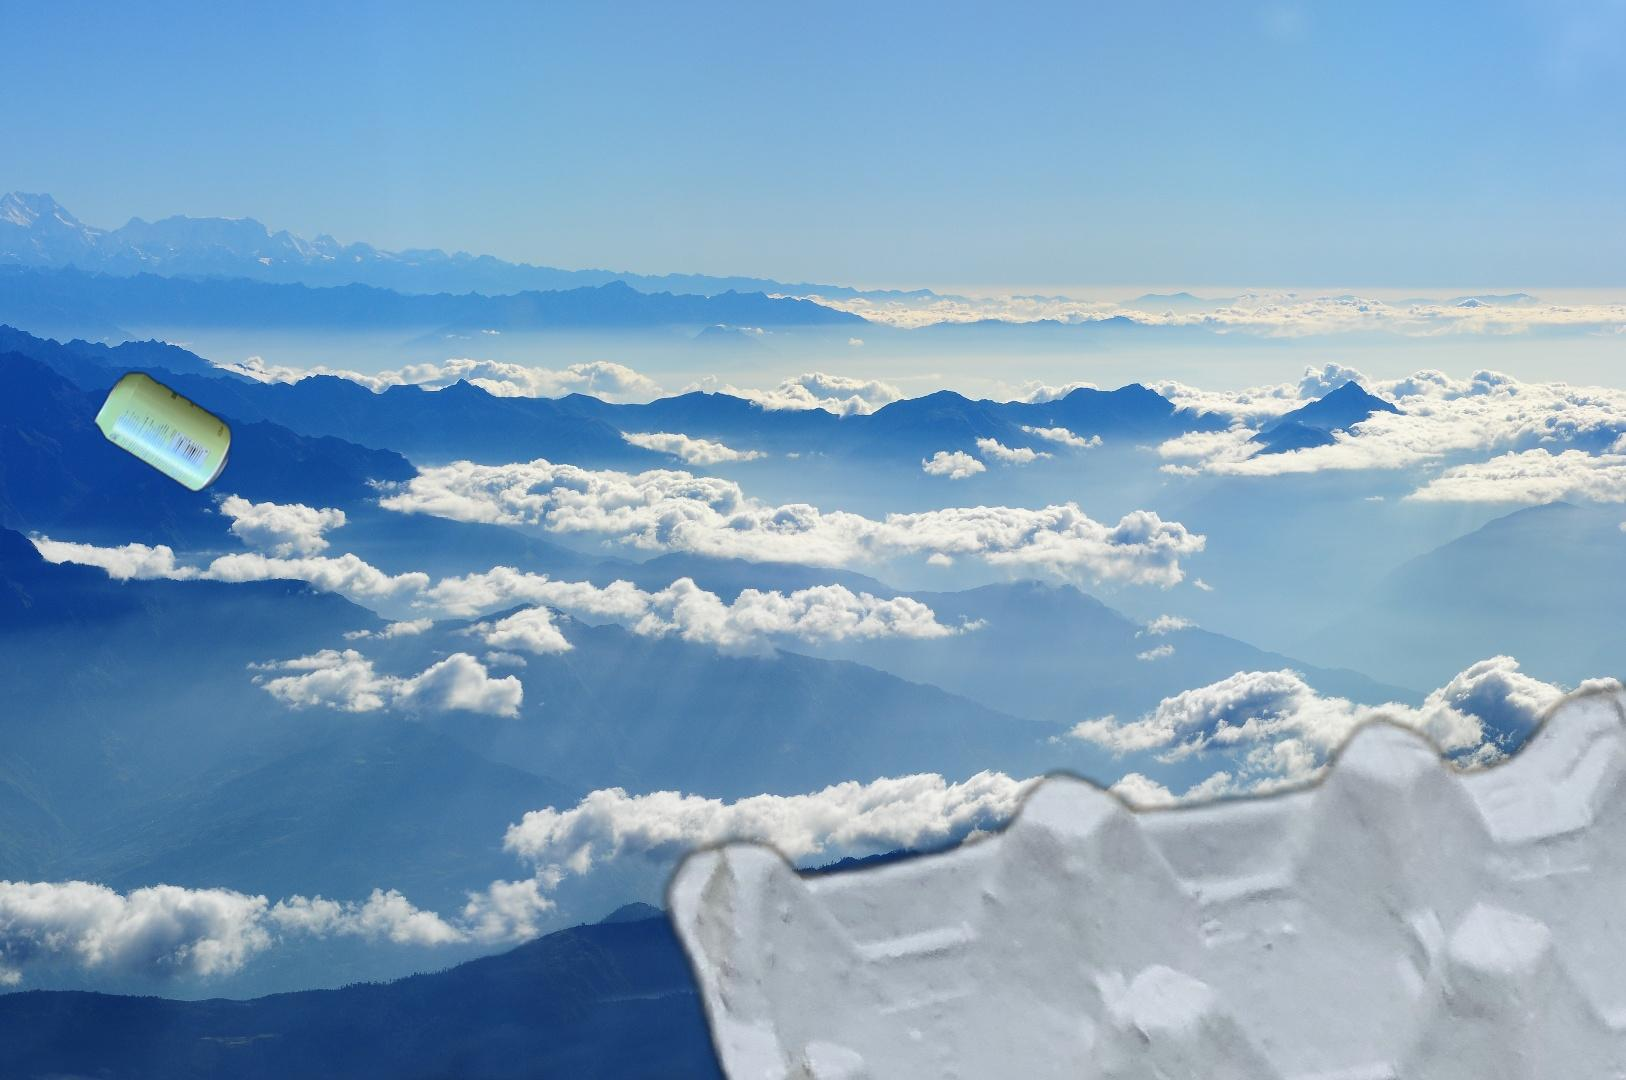metal-cans: (89, 366, 235, 498)
trashbox-cardboard: (645, 533, 1626, 1080)
